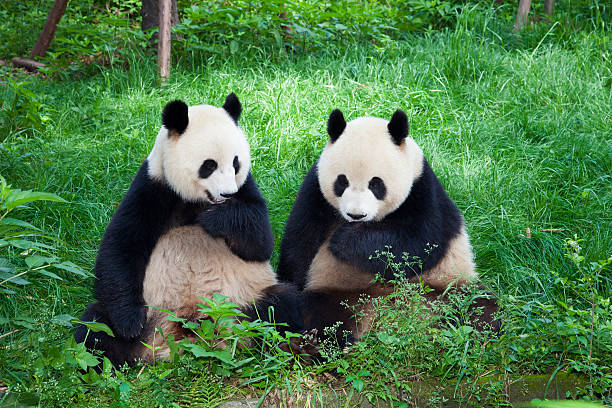panda: (150, 80, 279, 217), (312, 98, 430, 238)
